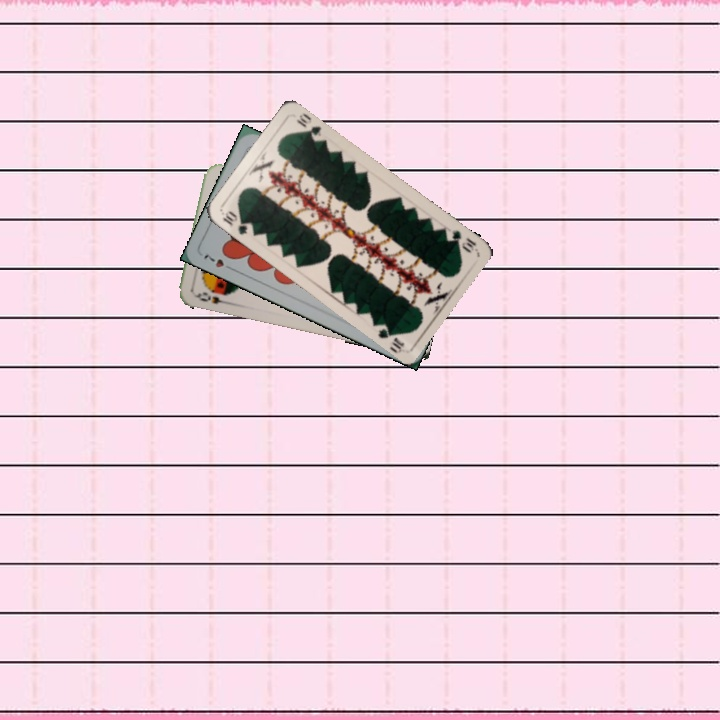G10: (441, 226, 479, 256), (219, 207, 251, 237)
H7: (199, 250, 237, 273)
SO: (191, 288, 231, 306)
